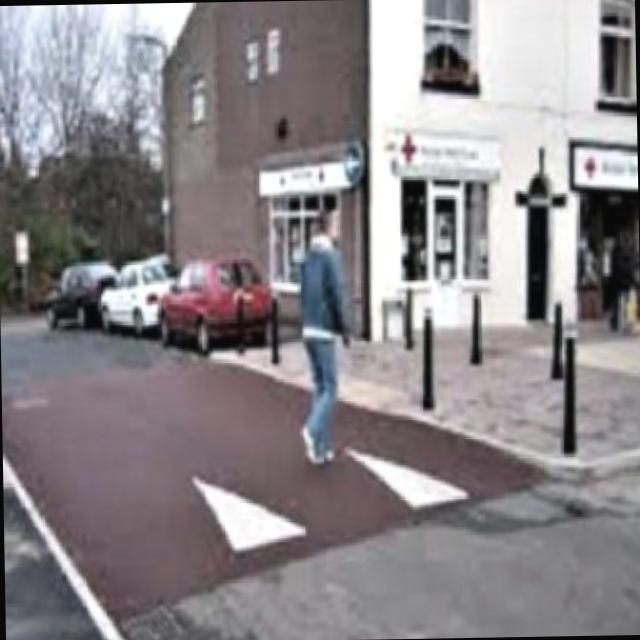Person: (287, 204, 359, 471)
